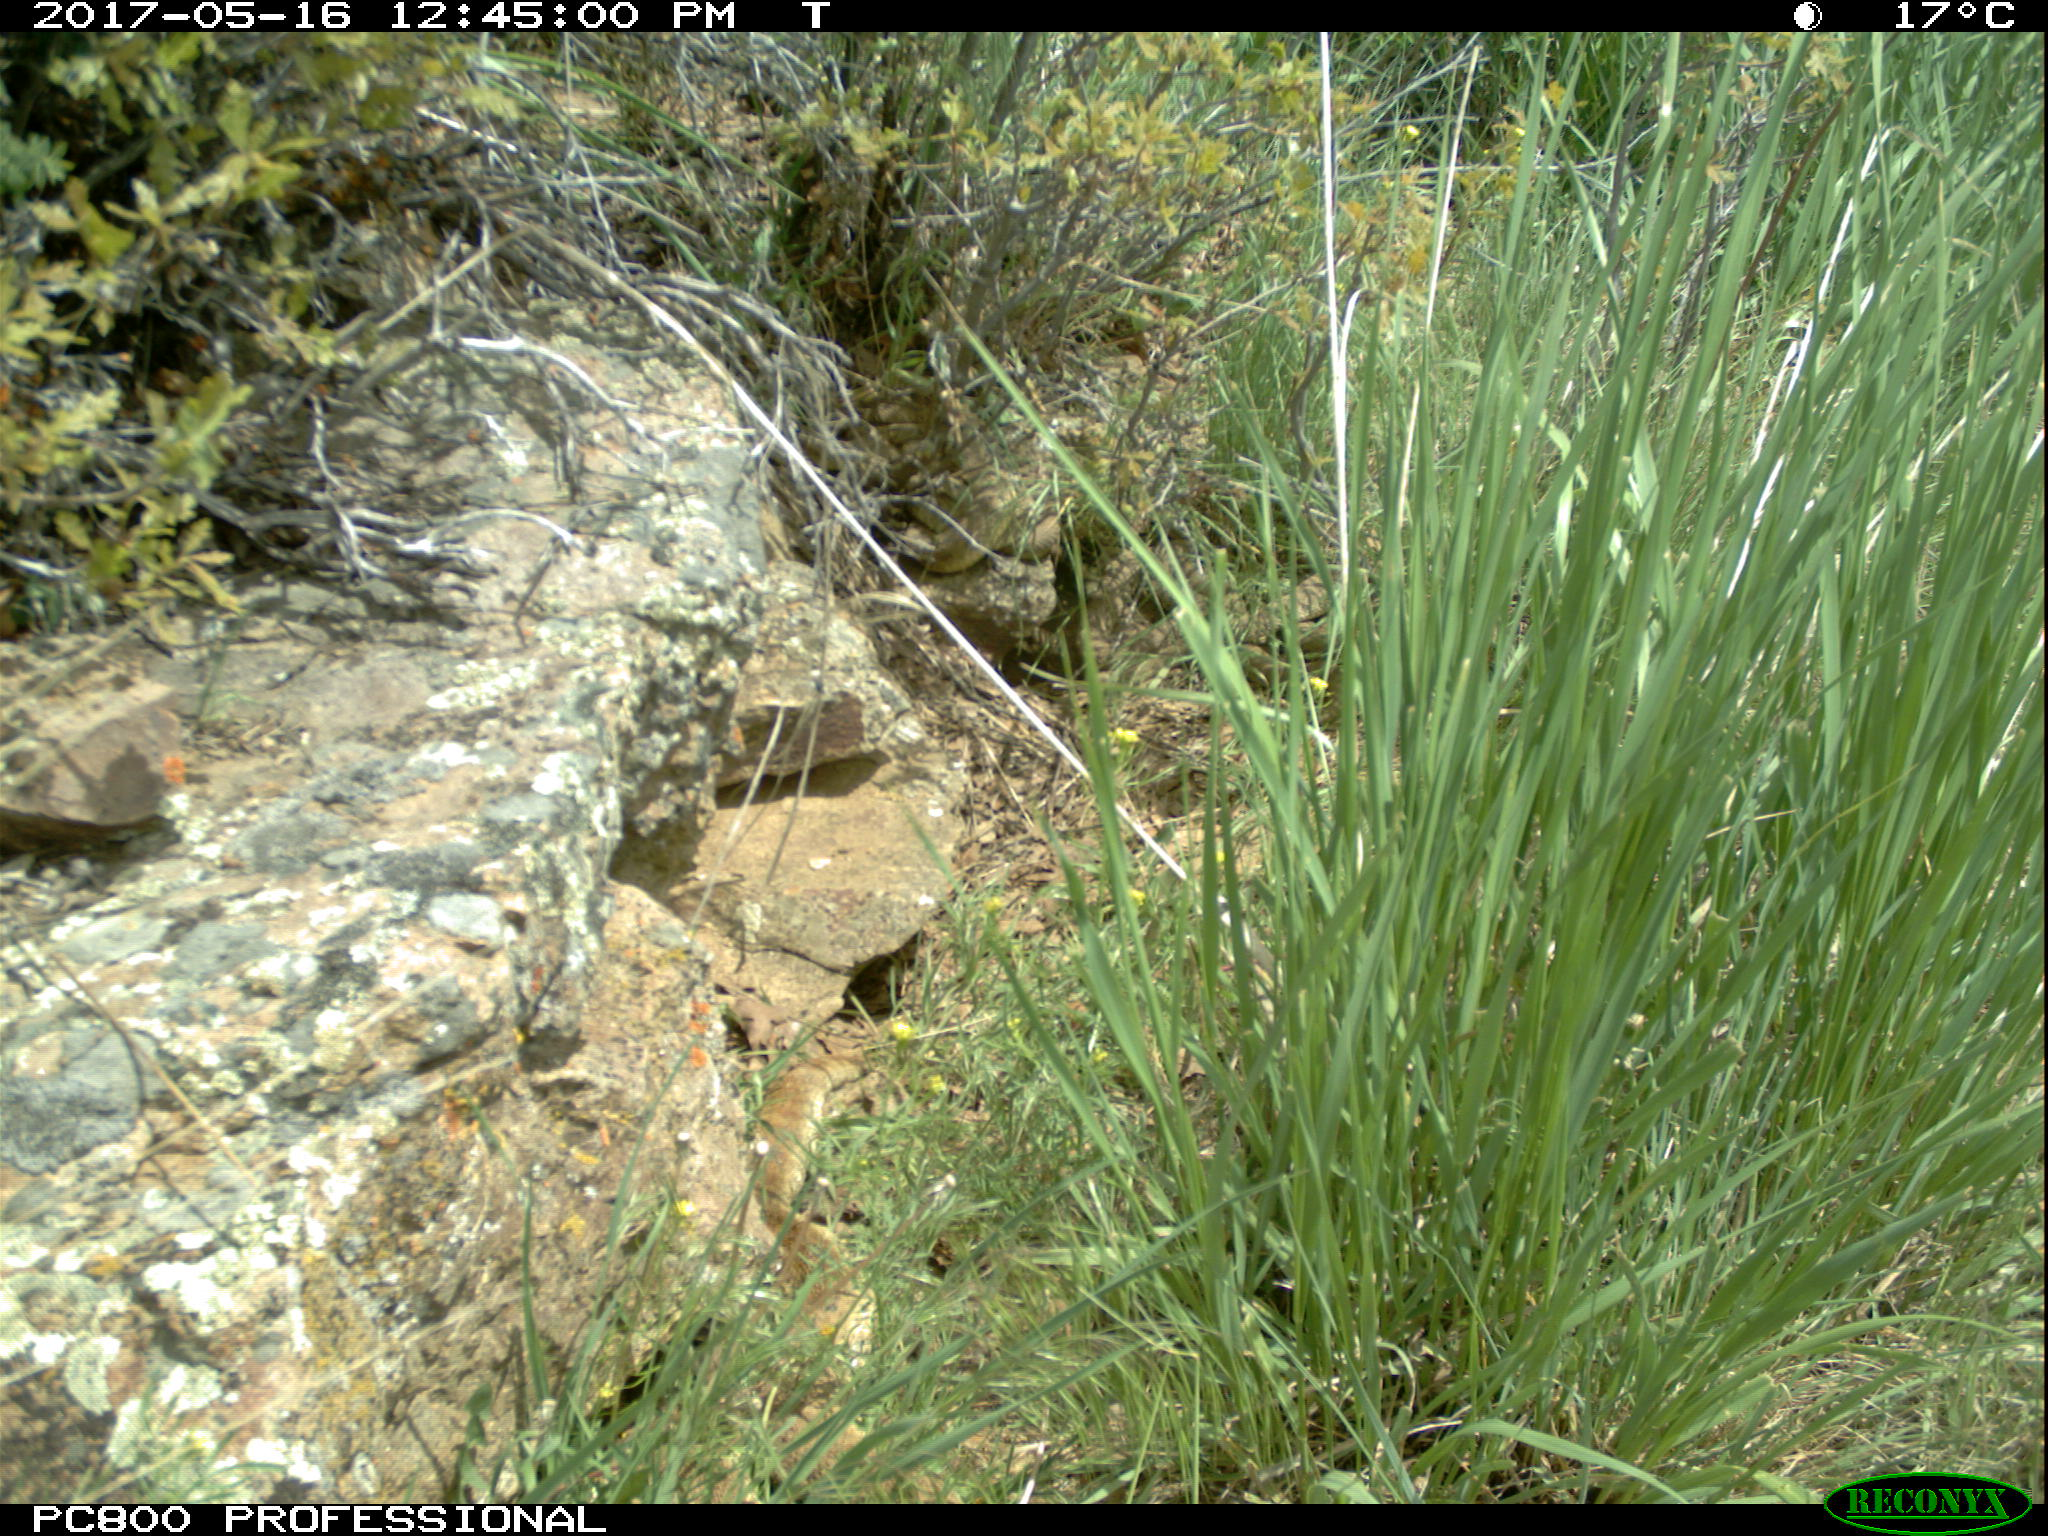snake: (748, 1050, 877, 1371), (893, 502, 1063, 578)
